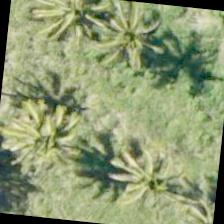Kelapa_Sawit: (102, 124, 201, 223), (18, 88, 116, 187), (84, 0, 184, 95), (40, 0, 138, 70)
